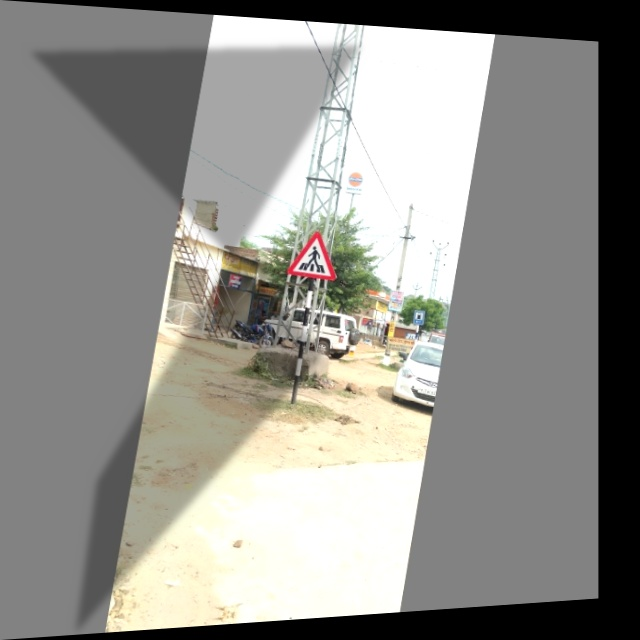Pedestrian_Crossing: (282, 224, 345, 287)
